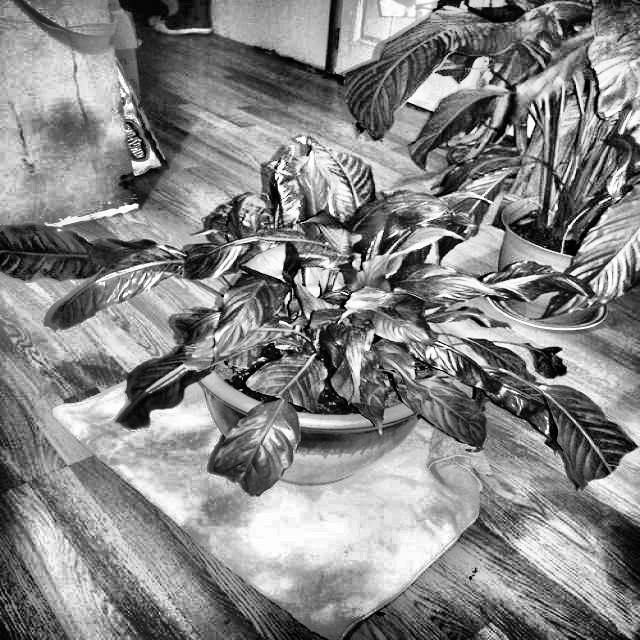plants: (1, 149, 639, 499), (496, 378, 638, 500), (209, 392, 307, 494), (448, 322, 582, 386)
